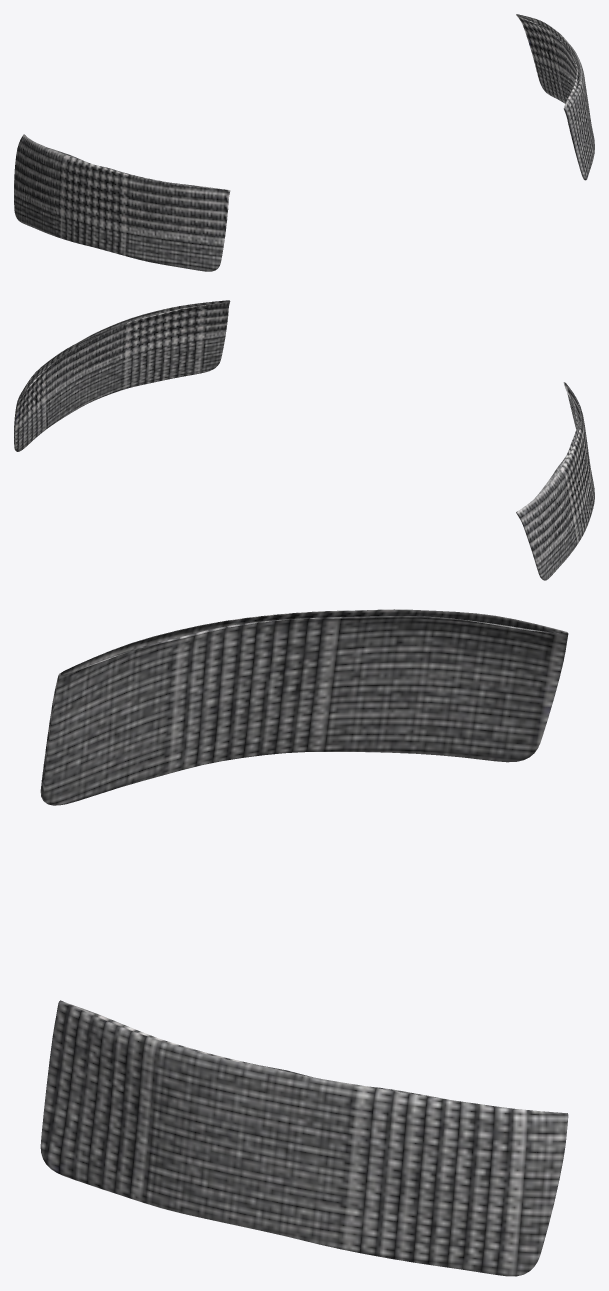
File: Flap_Pocket.glb
3 views of the same model, one above another, from view 1: azimuth 30°, elevation 25°; view 2: azimuth 150°, elevation 25°; view 3: azimuth 270°, elevation 25° (orthographic). The views are drawn at different scales.
Visible parts, largest first — view 1: Flap_Pocket; view 2: Flap_Pocket; view 3: Flap_Pocket.
Boxes of the visible parts, bbox=[...] form: Flap_Pocket: bbox=[14, 14, 594, 271]; Flap_Pocket: bbox=[14, 300, 594, 580]; Flap_Pocket: bbox=[40, 609, 568, 1276].
Bounding box in the file's own units: 0.0463 × 0.00763 × 0.02.
1 material, 1 textured.
